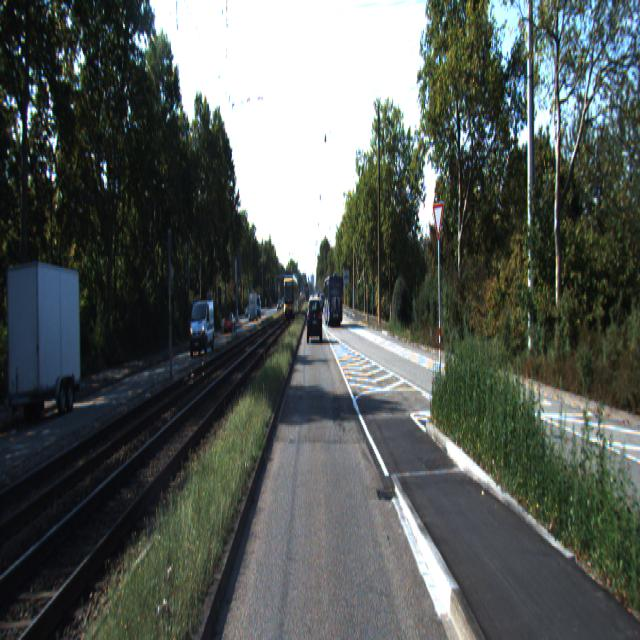Car: (6, 260, 84, 426), (188, 301, 216, 358), (323, 274, 343, 328), (307, 298, 322, 344)
